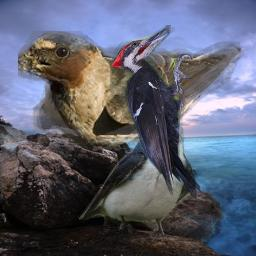Swallow: (18, 31, 244, 153), (79, 124, 197, 242)
Woodpecker: (110, 25, 202, 201)
